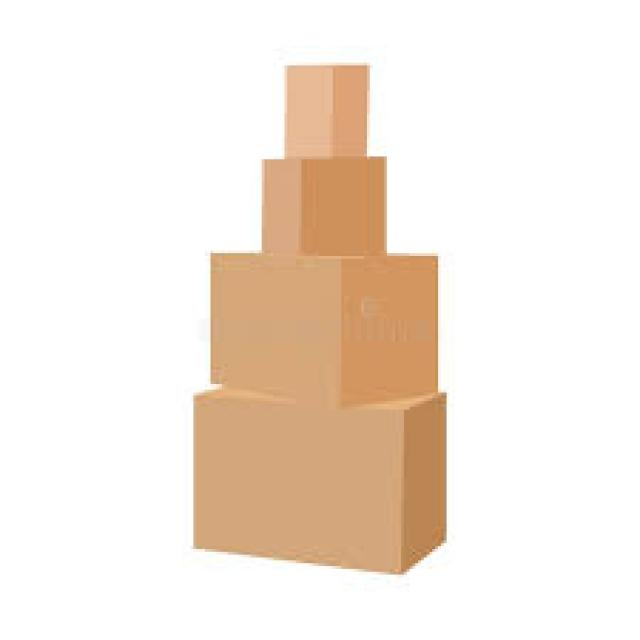box: (194, 390, 446, 571), (211, 254, 438, 406), (262, 157, 386, 255), (285, 66, 369, 156)
